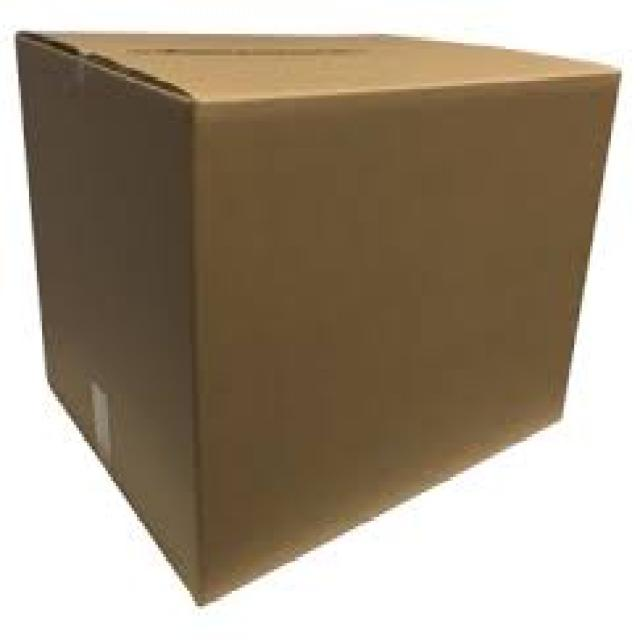box: (13, 27, 621, 606)
